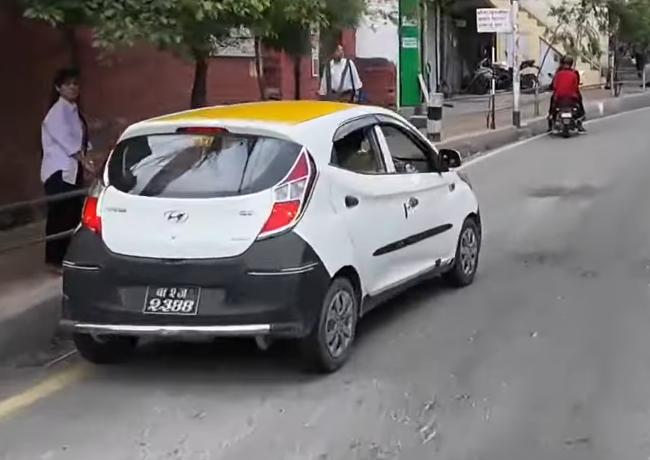taxi: (51, 92, 483, 367)
